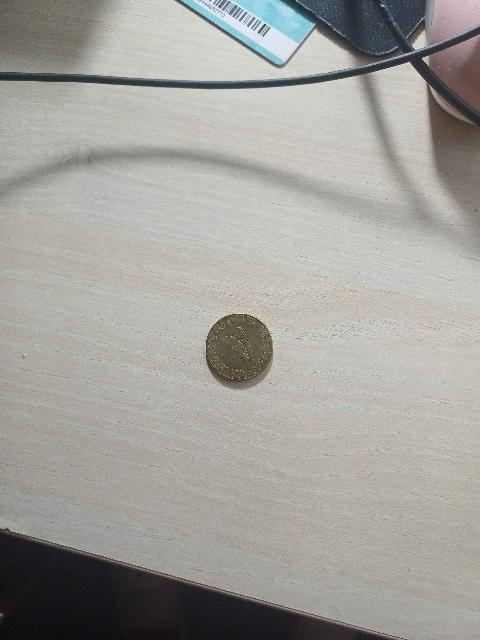2_coin: (206, 314, 272, 379)
